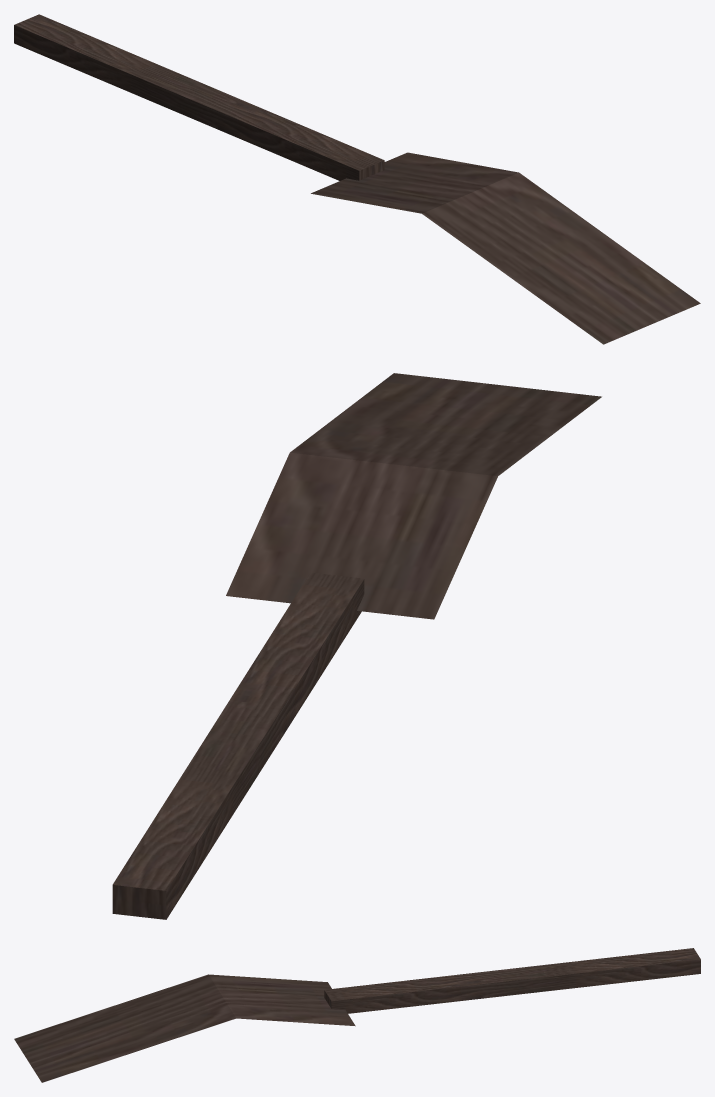
3 renders of one model, top to bottom at view 1: azimuth 30°, elevation 25°; view 2: azimuth 150°, elevation 25°; view 3: azimuth 270°, elevation 25°, orthographic. The views are drawn at different scales.
Parts seen in each view (by area): view 1: Cube062_Cutlery001_0; view 2: Cube062_Cutlery001_0; view 3: Cube062_Cutlery001_0.
Part boxes in pixels (<box>): Cube062_Cutlery001_0: <box>14,14,700,344</box>; Cube062_Cutlery001_0: <box>112,373,601,919</box>; Cube062_Cutlery001_0: <box>14,948,700,1082</box>.
Bounding box in the file's own units: 0.0975 × 0.0186 × 0.2733.
1 material, 1 textured.
